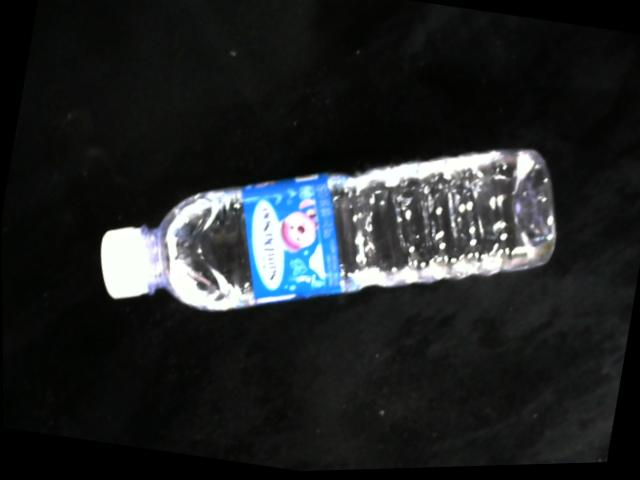bottle: (98, 150, 557, 315)
